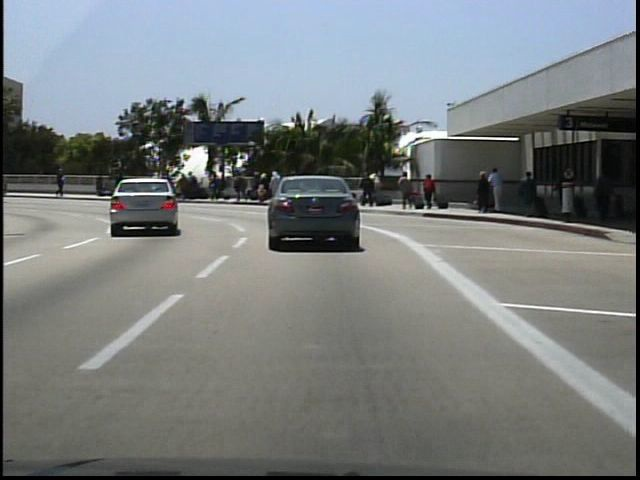person: (591, 163, 618, 224), (517, 165, 542, 220), (559, 163, 581, 220), (474, 168, 495, 218), (488, 165, 508, 217), (398, 170, 418, 212), (423, 170, 441, 211), (360, 171, 379, 208), (55, 166, 71, 199), (93, 170, 111, 199), (114, 169, 131, 198)
